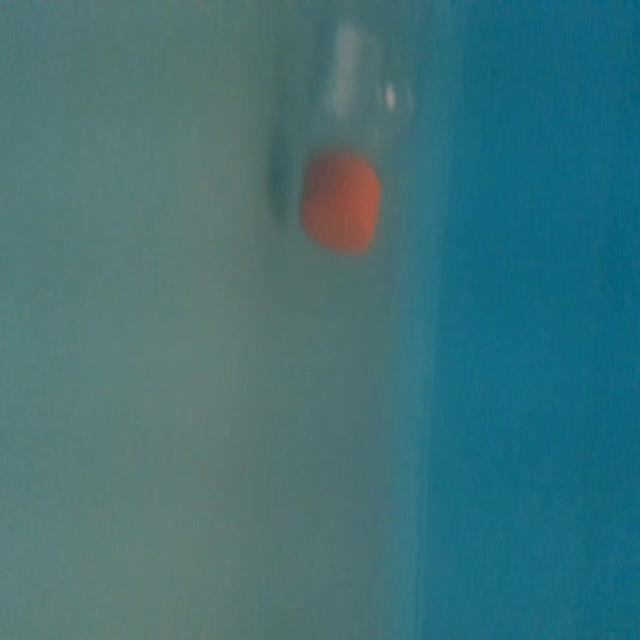plastic bottle: (287, 5, 427, 255)
